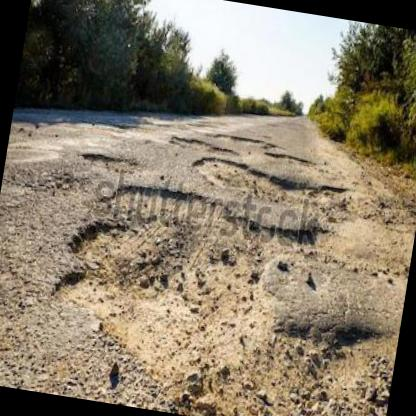pothole: (32, 168, 290, 416), (186, 150, 358, 221), (205, 128, 281, 167), (167, 130, 240, 158), (78, 146, 141, 174)
